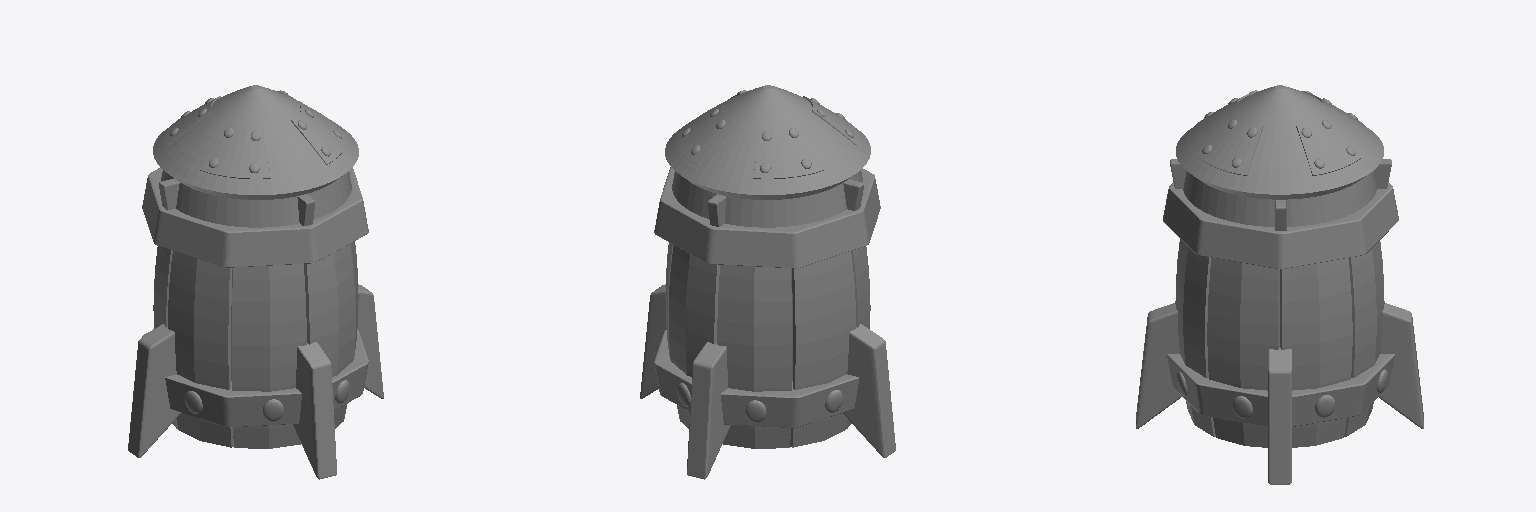
Rendered from cohete.obj.
3 views of the same model, side by side, from view 1: azimuth 30°, elevation 25°; view 2: azimuth 150°, elevation 25°; view 3: azimuth 270°, elevation 25° (orthographic).
Parts seen in each view (by area): view 1: HIERRO, MADERA, SUPERIOR_INFERIOR, PIEDRA; view 2: HIERRO, MADERA, SUPERIOR_INFERIOR, PIEDRA; view 3: HIERRO, MADERA, SUPERIOR_INFERIOR, PIEDRA.
Part boxes in pixels (x1,y1,x2,y2): HIERRO: (128, 167, 383, 479); MADERA: (153, 241, 358, 448); SUPERIOR_INFERIOR: (153, 85, 358, 438); PIEDRA: (161, 170, 351, 227); HIERRO: (640, 167, 895, 479); MADERA: (665, 242, 870, 448); SUPERIOR_INFERIOR: (665, 85, 870, 438); PIEDRA: (672, 170, 862, 227); HIERRO: (1136, 159, 1423, 484); MADERA: (1175, 239, 1384, 447); SUPERIOR_INFERIOR: (1176, 85, 1383, 199); PIEDRA: (1183, 171, 1376, 226).
Size of the model in its own units: 6.02 by 7.9 by 6.12.